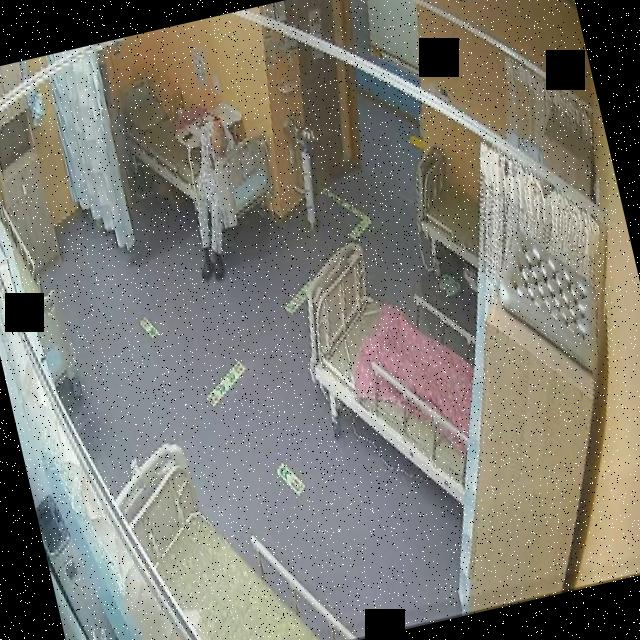bed: (290, 223, 500, 524), (104, 409, 356, 640), (111, 56, 282, 246), (402, 140, 494, 280)
patient: (166, 113, 264, 284)
sit: (166, 114, 264, 284)
